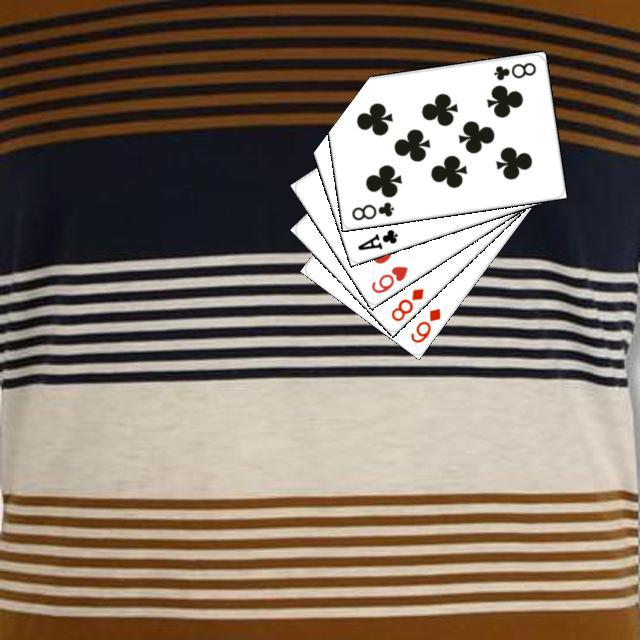6d: (405, 303, 443, 345)
6h: (366, 261, 410, 295)
8c: (488, 57, 538, 82), (347, 197, 396, 222)
8d: (386, 283, 426, 323)
Ac: (352, 224, 399, 252)
